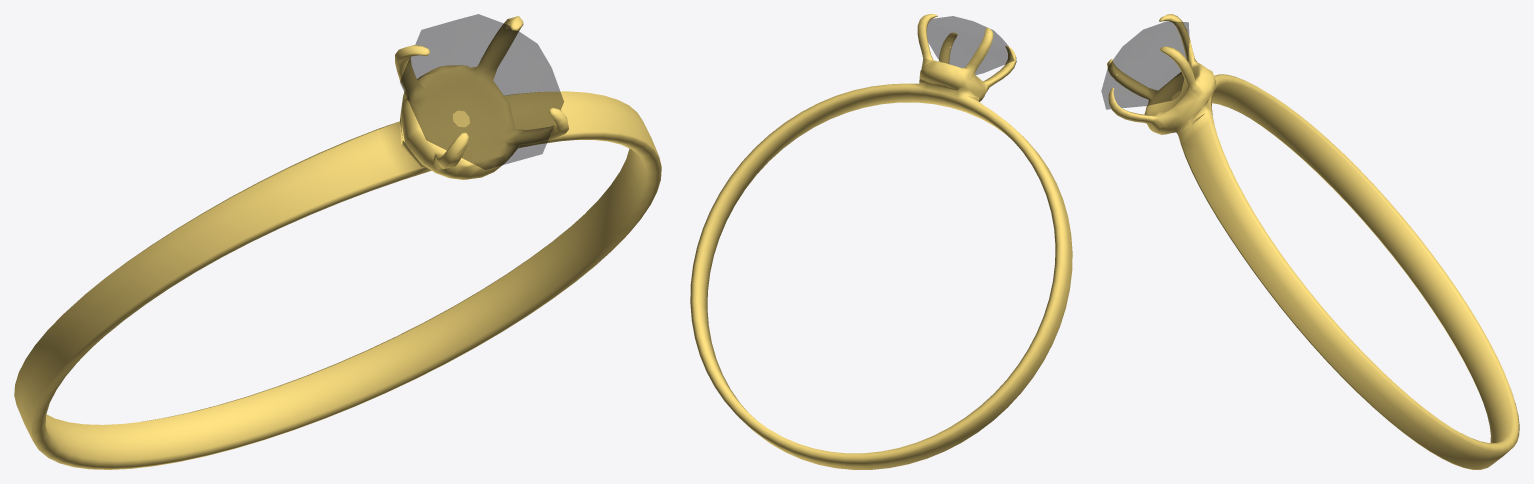
Rendered from ring_gold_with_diamond-optimo.glb.
3 views of the same model, side by side, from view 1: azimuth 30°, elevation 25°; view 2: azimuth 150°, elevation 25°; view 3: azimuth 270°, elevation 25° (orthographic). The views are drawn at different scales.
Parts seen in each view (by area): view 1: Cylinder_Material.006_0, Gem_Material.002_0; view 2: Cylinder_Material.006_0, Gem_Material.002_0; view 3: Cylinder_Material.006_0, Gem_Material.002_0.
Boxes of the visible parts, x1,y1,x2,y2 form: Cylinder_Material.006_0: (14,16,661,469); Gem_Material.002_0: (400,14,563,169); Cylinder_Material.006_0: (690,14,1072,469); Gem_Material.002_0: (927,16,1014,74); Cylinder_Material.006_0: (1107,14,1519,469); Gem_Material.002_0: (1101,21,1189,109).
Size of the model in its own units: 0.538 by 0.515 by 0.4702.
